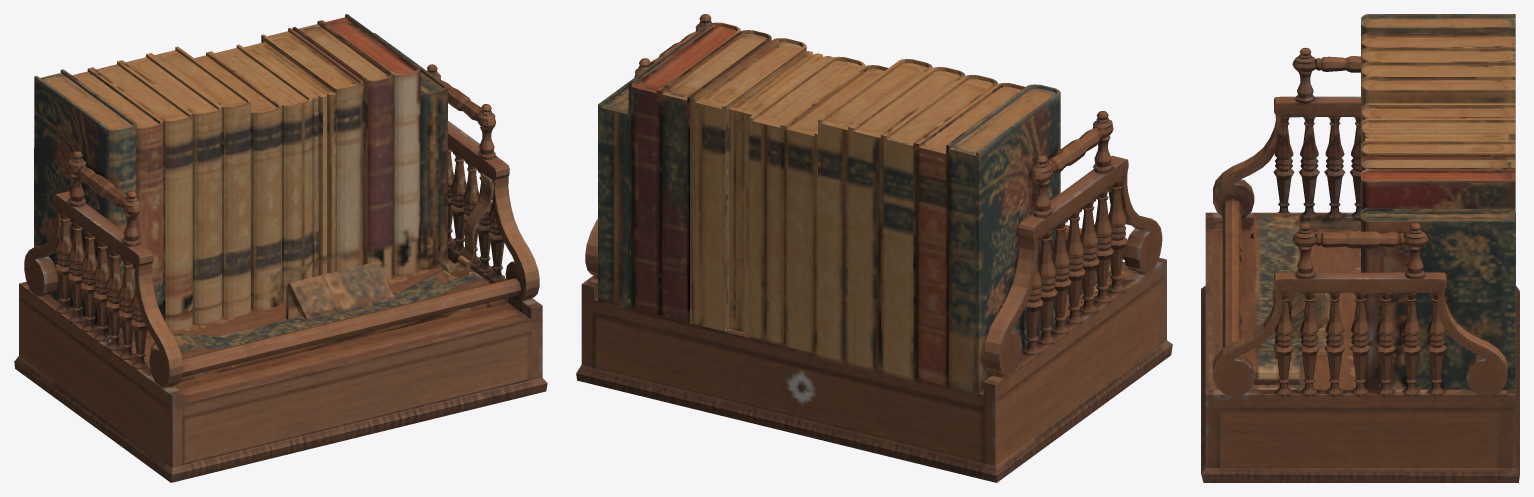
Rendered from FileBox.fbx.
3 views of the same model, side by side, from view 1: azimuth 30°, elevation 25°; view 2: azimuth 150°, elevation 25°; view 3: azimuth 270°, elevation 25° (orthographic). The views are drawn at different scales.
Parts seen in each view (by area): view 1: FileBox_Low; view 2: FileBox_Low; view 3: FileBox_Low.
Part boxes in pixels (bbox=[...]): FileBox_Low: bbox=[14, 14, 547, 482]; FileBox_Low: bbox=[576, 14, 1172, 482]; FileBox_Low: bbox=[1201, 14, 1519, 482].
Size of the model in its own units: 0.6375 by 0.4691 by 0.4632.
